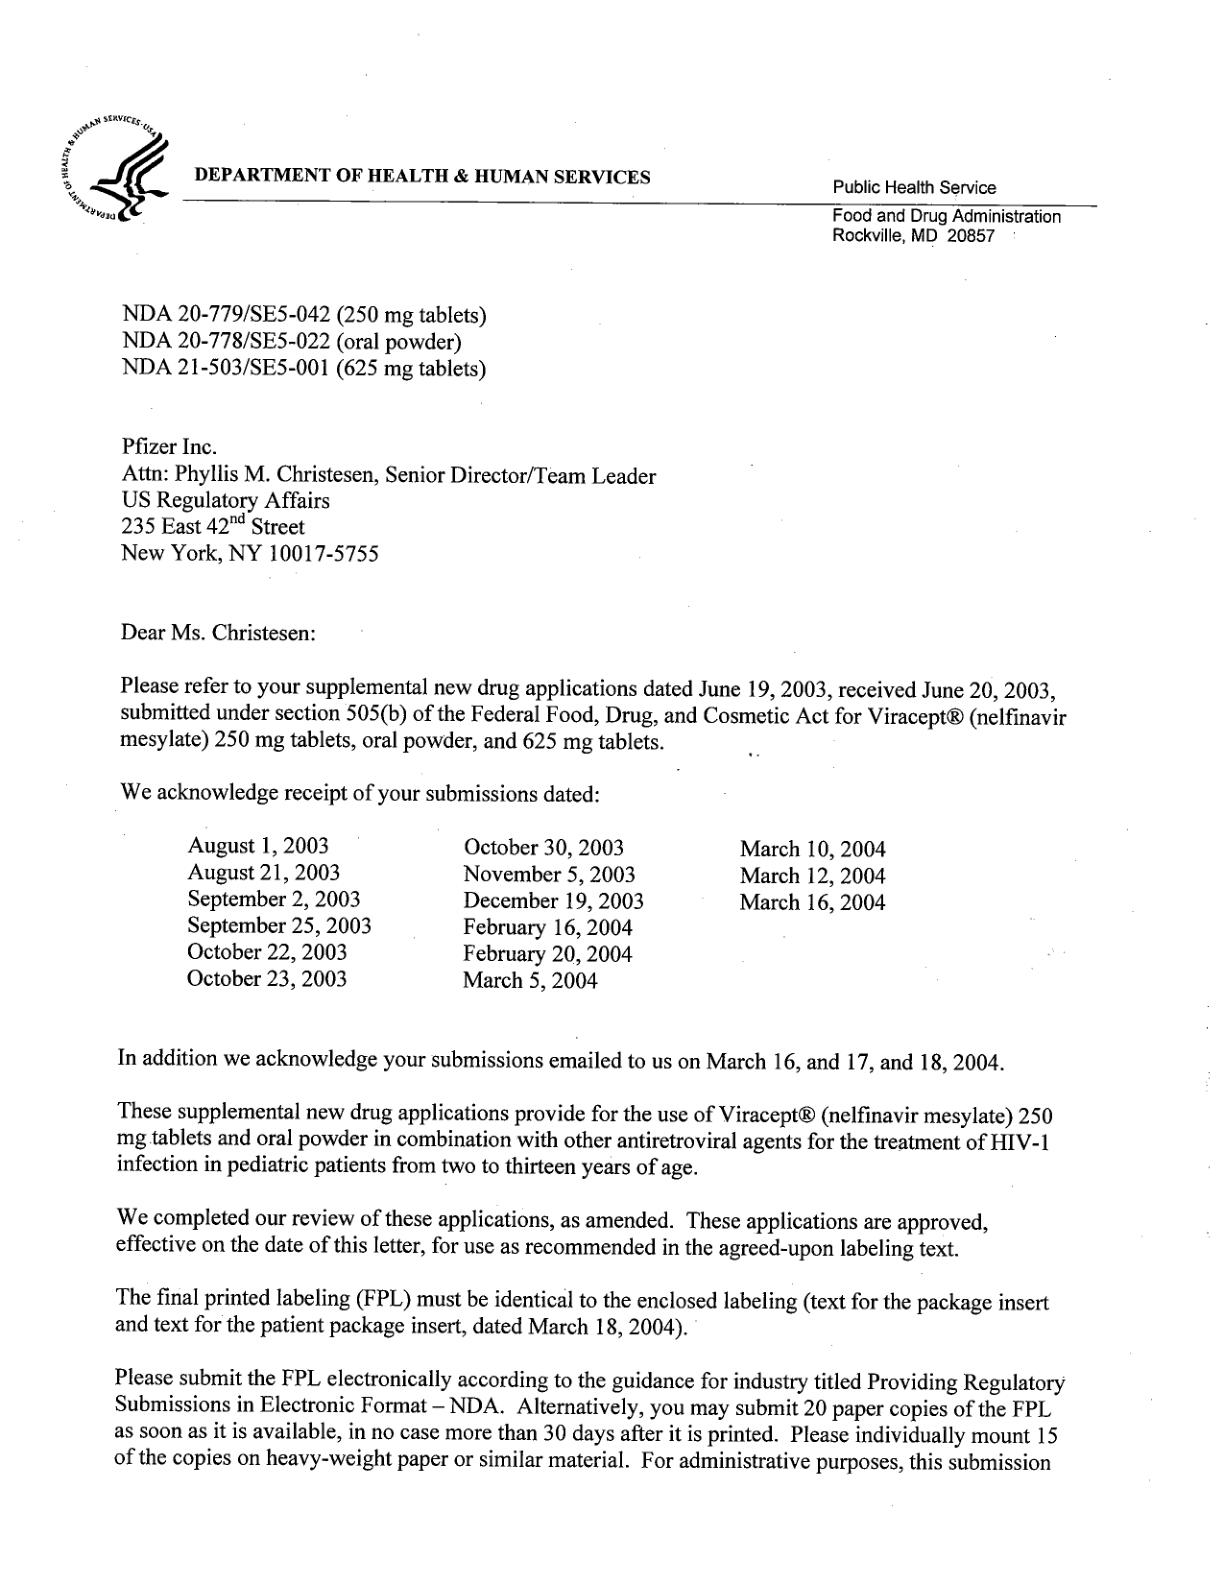nolines: (183, 834, 890, 991)
